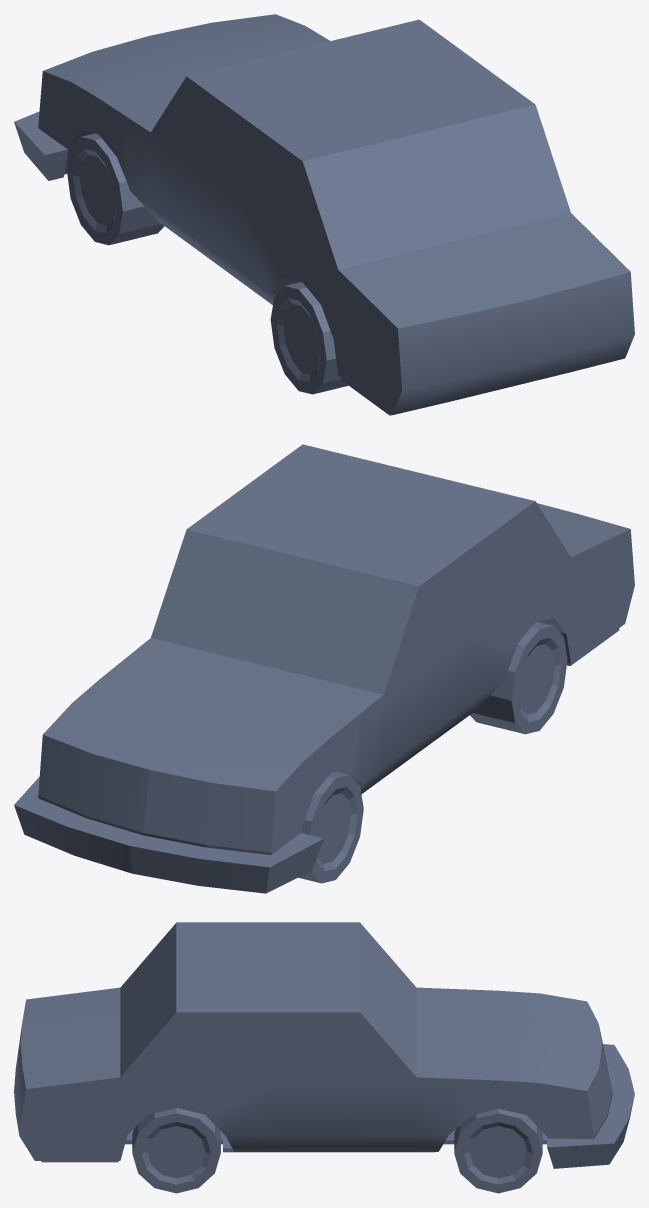
File: Car_01_Blue.fbx
3 renders of one model, top to bottom at view 1: azimuth 30°, elevation 25°; view 2: azimuth 150°, elevation 25°; view 3: azimuth 270°, elevation 25°, orthographic. The views are drawn at different scales.
Visible parts, largest first — view 1: Car_01_Blue; view 2: Car_01_Blue; view 3: Car_01_Blue.
Part boxes in pixels (x1=…): Car_01_Blue: x1=14, y1=14, x2=634, y2=415; Car_01_Blue: x1=14, y1=444, x2=634, y2=893; Car_01_Blue: x1=14, y1=922, x2=634, y2=1193.
Bounding box in the file's own units: 7.4 × 5.79 × 18.05.
